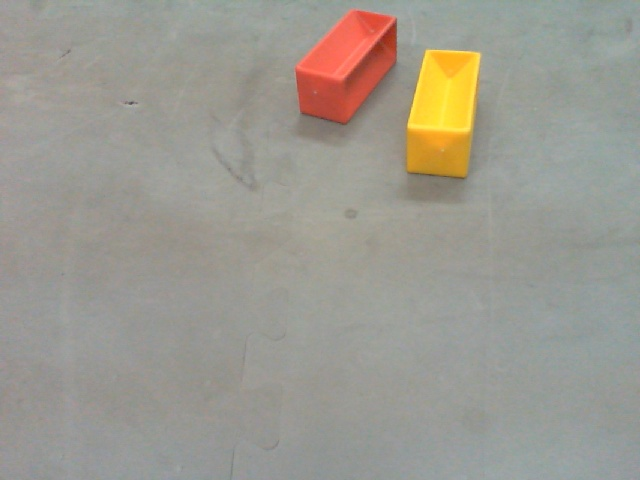RedSample: (294, 8, 402, 125)
YellowSample: (403, 51, 480, 176)
